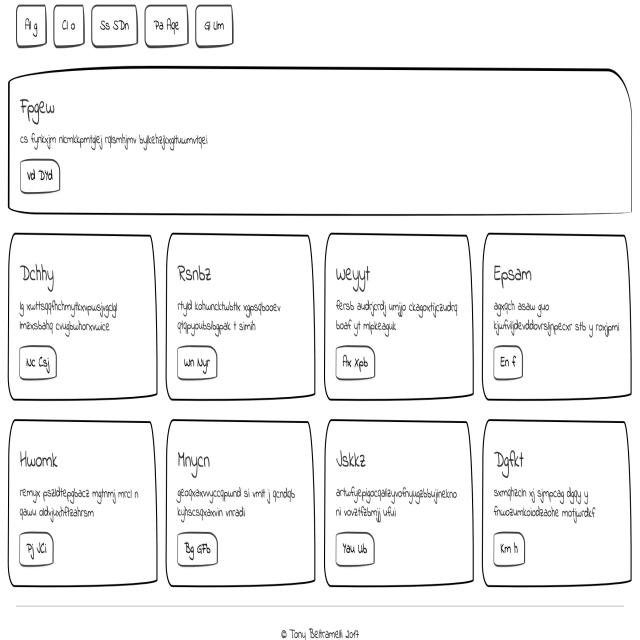Button: (171, 522, 229, 570), (174, 337, 222, 384), (16, 523, 62, 572), (490, 522, 534, 571), (331, 339, 380, 383), (13, 338, 60, 381), (17, 156, 63, 198), (334, 530, 378, 571), (490, 345, 526, 383)
Card: (4, 63, 637, 219), (322, 225, 478, 406), (481, 407, 634, 590), (4, 411, 160, 589), (480, 227, 635, 406), (164, 412, 318, 588), (322, 418, 479, 590), (163, 232, 318, 406), (6, 230, 160, 402)
Footer: (0, 589, 640, 640)
Heading 6: (14, 89, 61, 128), (172, 255, 215, 297), (488, 260, 538, 296), (15, 444, 66, 479), (491, 439, 532, 479), (331, 256, 374, 294), (18, 254, 58, 294), (173, 444, 217, 478), (332, 445, 369, 476)
Navigation Bar: (9, 0, 242, 58)
Paragraph: (484, 296, 622, 342), (329, 296, 464, 339), (327, 480, 463, 522), (172, 482, 301, 522), (12, 482, 141, 520), (170, 296, 286, 338), (486, 484, 600, 524), (16, 293, 123, 333), (16, 130, 220, 148)
